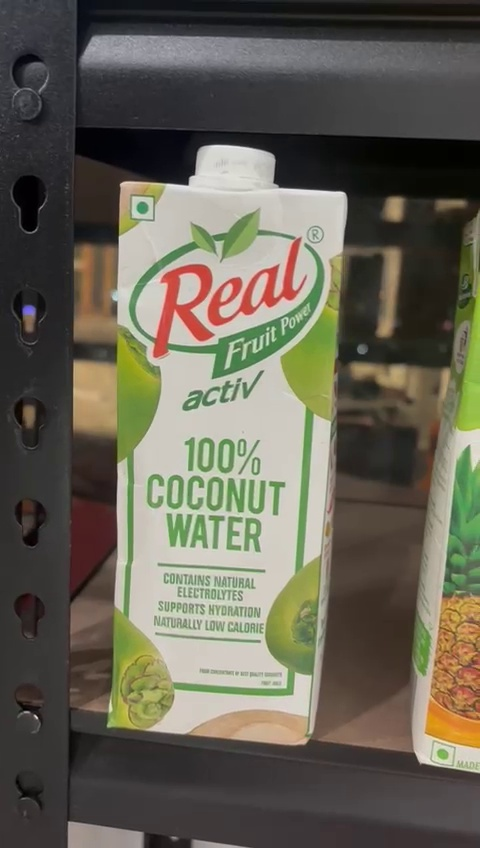Coconut water: (118, 138, 319, 740)
